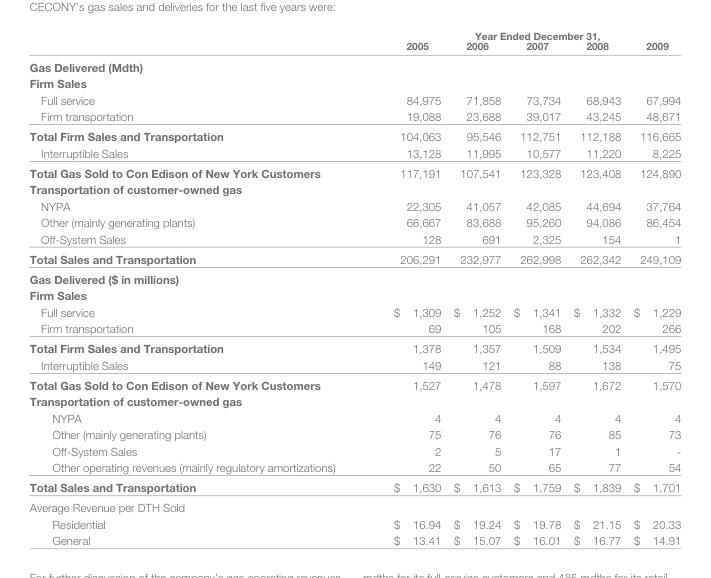table: (28, 29, 680, 546)
table column: (28, 29, 363, 546), (363, 29, 446, 546), (446, 29, 506, 546), (506, 29, 566, 546), (566, 29, 626, 546), (626, 29, 680, 546)
table column header: (28, 29, 680, 55)
table projected row header: (28, 55, 680, 74), (28, 268, 680, 286), (28, 497, 680, 515), (28, 74, 680, 91), (28, 180, 680, 197), (28, 286, 680, 303), (28, 392, 680, 409)
table row: (28, 476, 680, 497), (28, 248, 680, 268), (28, 55, 680, 74), (28, 125, 680, 144), (28, 337, 680, 356), (28, 107, 680, 125), (28, 144, 680, 162), (28, 162, 680, 180), (28, 230, 680, 248), (28, 268, 680, 286), (28, 319, 680, 337), (28, 356, 680, 374), (28, 374, 680, 392), (28, 458, 680, 476), (28, 497, 680, 515), (28, 74, 680, 91), (28, 180, 680, 197), (28, 213, 680, 230), (28, 286, 680, 303), (28, 392, 680, 409), (28, 425, 680, 442), (28, 91, 680, 107), (28, 197, 680, 213), (28, 303, 680, 319), (28, 409, 680, 425), (28, 442, 680, 458), (28, 515, 680, 531), (28, 40, 680, 55), (28, 531, 680, 546), (28, 29, 680, 40)
table spanning cell: (363, 29, 680, 40)
